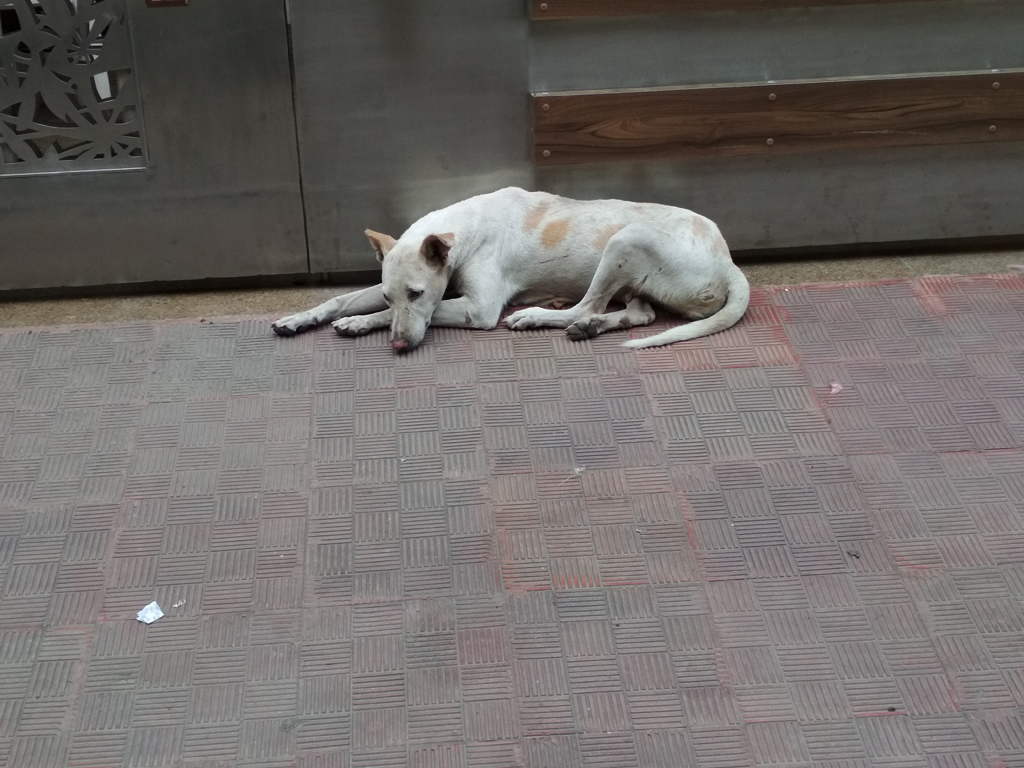dog: (272, 185, 751, 354)
